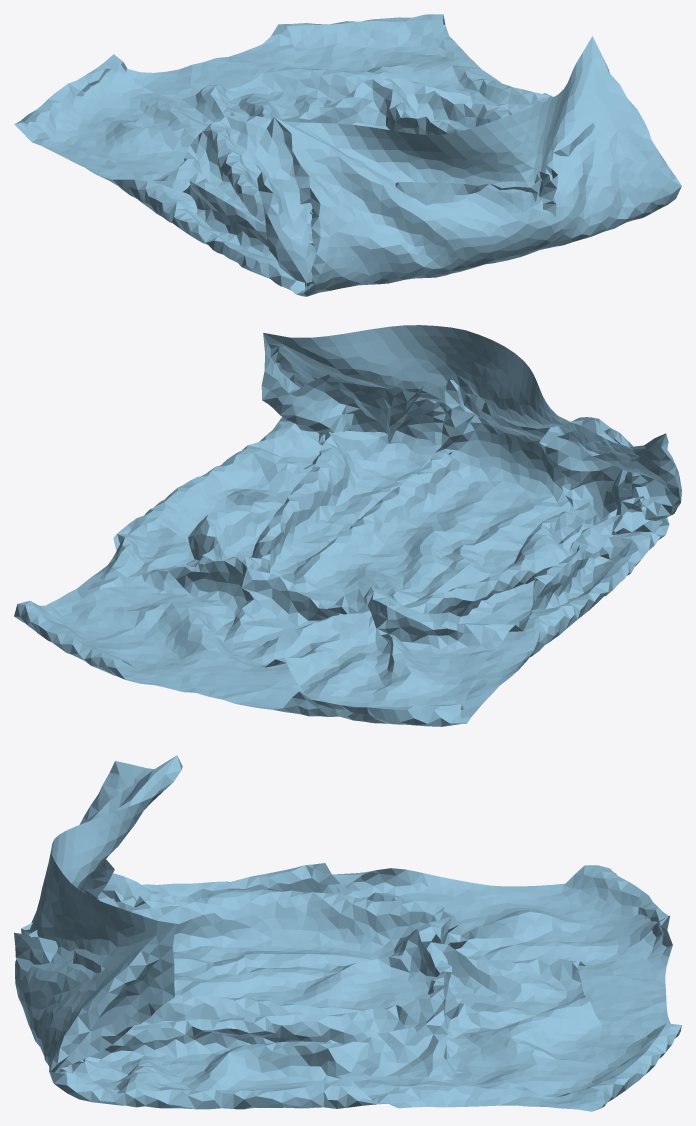
The model's file is frame_09.glb.
3 views of the same model, one above another, from view 1: azimuth 30°, elevation 25°; view 2: azimuth 150°, elevation 25°; view 3: azimuth 270°, elevation 25° (orthographic). The views are drawn at different scales.
Parts seen in each view (by area): view 1: frame_09.obj; view 2: frame_09.obj; view 3: frame_09.obj.
Part boxes in pixels (x1,y1,x2,y2): frame_09.obj: (14,14,681,296); frame_09.obj: (14,325,681,726); frame_09.obj: (14,755,681,1111).
Size of the model in its own units: 1.24 by 0.4198 by 1.49.
